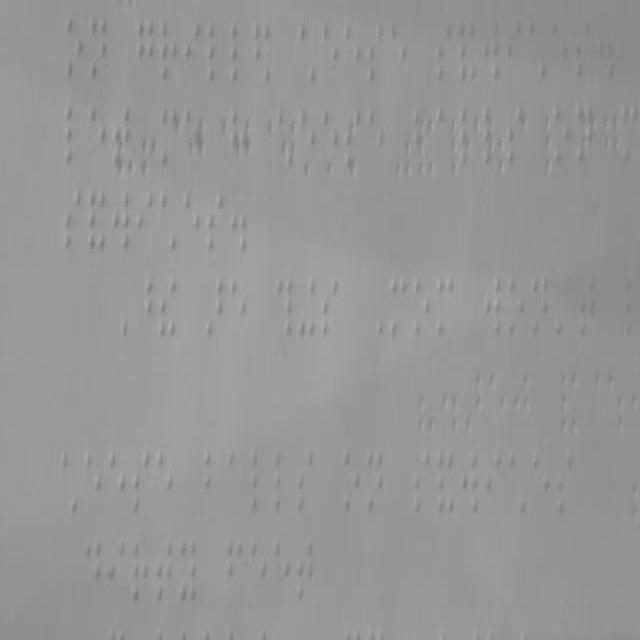braiile: (481, 16, 502, 82), (530, 450, 550, 519), (64, 101, 85, 166), (341, 448, 361, 516), (412, 448, 432, 516), (205, 20, 225, 87), (320, 17, 340, 84), (342, 17, 362, 84), (550, 17, 570, 84), (136, 18, 156, 84), (248, 538, 268, 604), (364, 23, 384, 88), (388, 23, 408, 88), (202, 446, 222, 510), (364, 448, 384, 512), (578, 271, 596, 342), (82, 540, 101, 607), (89, 102, 108, 168), (182, 190, 200, 259), (228, 276, 248, 338), (272, 449, 292, 511), (178, 540, 198, 602), (136, 186, 154, 254), (132, 448, 150, 516), (82, 450, 101, 514), (154, 450, 173, 514), (227, 450, 246, 514), (159, 17, 177, 84), (436, 20, 454, 87), (505, 17, 523, 84), (556, 451, 574, 518), (111, 192, 131, 252), (295, 452, 315, 512), (320, 276, 338, 342), (155, 538, 173, 604), (226, 538, 244, 604), (272, 538, 290, 604), (295, 536, 313, 602), (459, 451, 478, 513), (65, 17, 83, 82), (574, 17, 592, 82), (552, 101, 570, 166), (108, 452, 126, 517), (206, 190, 224, 254), (183, 20, 200, 87), (230, 22, 248, 84), (366, 105, 384, 167), (505, 102, 523, 164), (64, 191, 82, 253), (484, 276, 502, 338), (249, 449, 267, 511), (132, 540, 150, 602), (90, 19, 108, 79), (298, 108, 316, 168), (507, 276, 525, 336), (484, 452, 502, 512), (624, 273, 640, 340), (108, 540, 125, 602), (320, 109, 338, 167), (530, 276, 548, 334), (414, 276, 431, 336), (436, 108, 452, 168)
